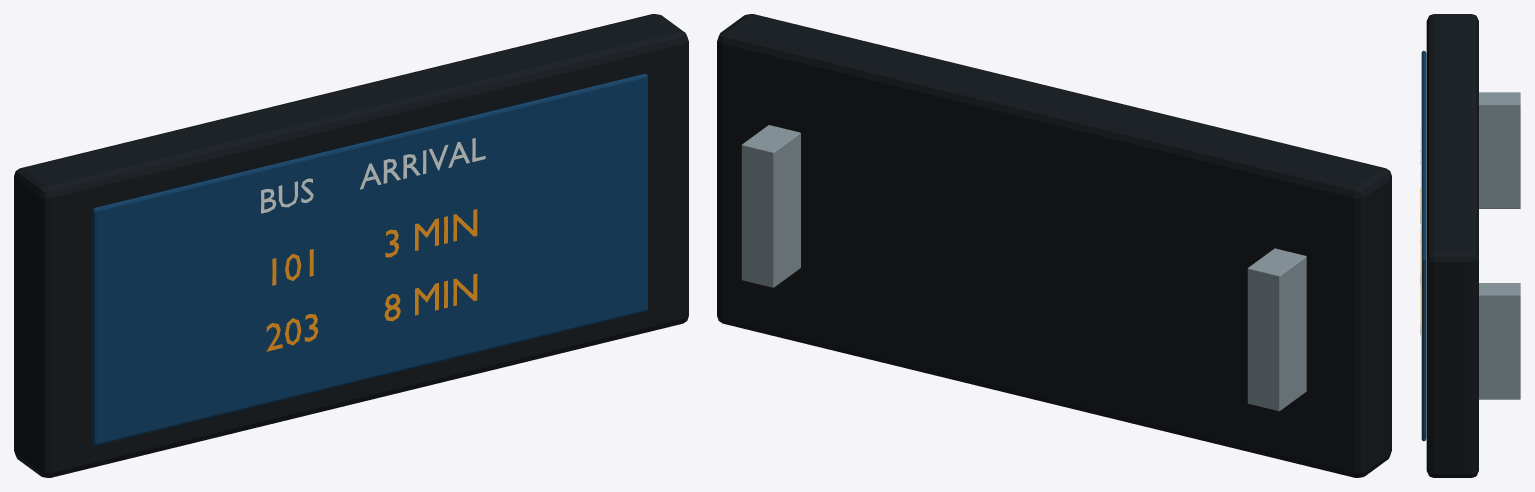
Rendered from edited.glb.
The picture shows the model from 3 angles, left to right: view 1: azimuth 30°, elevation 25°; view 2: azimuth 150°, elevation 25°; view 3: azimuth 270°, elevation 25°; orthographic projection. The views are drawn at different scales.
Parts seen in each view (by area): view 1: DISPLAY_Glass, DISPLAY_Housing, EDITABLE_Heading, EDITABLE_Row, EDITABLE_Row.001; view 2: DISPLAY_Housing, MOUNT_Bracket, MOUNT_Bracket.001; view 3: DISPLAY_Housing, MOUNT_Bracket, MOUNT_Bracket.001, DISPLAY_Glass.
Part boxes in pixels (x1,y1,x2,y2): DISPLAY_Glass: [92, 74, 647, 445]; DISPLAY_Housing: [14, 14, 688, 477]; EDITABLE_Heading: [261, 138, 485, 213]; EDITABLE_Row: [266, 273, 477, 351]; EDITABLE_Row.001: [272, 209, 477, 285]; DISPLAY_Housing: [717, 14, 1391, 477]; MOUNT_Bracket: [1247, 248, 1306, 411]; MOUNT_Bracket.001: [741, 125, 800, 287]; DISPLAY_Housing: [1426, 14, 1478, 477]; MOUNT_Bracket: [1479, 92, 1520, 208]; MOUNT_Bracket.001: [1479, 283, 1520, 399]; DISPLAY_Glass: [1421, 50, 1426, 441].
Size of the model in its own units: 2 by 0.86 by 0.3478.
